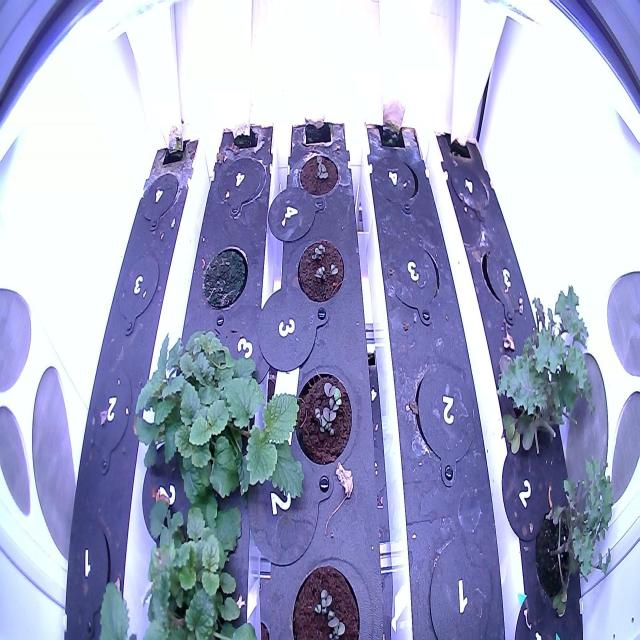empty_pod: (411, 353, 480, 492), (420, 529, 502, 638), (61, 509, 114, 629), (383, 238, 446, 329), (88, 362, 136, 478), (112, 244, 163, 344), (476, 244, 530, 324), (214, 151, 265, 227), (367, 150, 422, 219), (134, 161, 180, 234), (447, 156, 496, 224)
germination: (290, 358, 354, 472), (281, 554, 367, 638), (293, 233, 348, 304), (294, 147, 343, 200)
